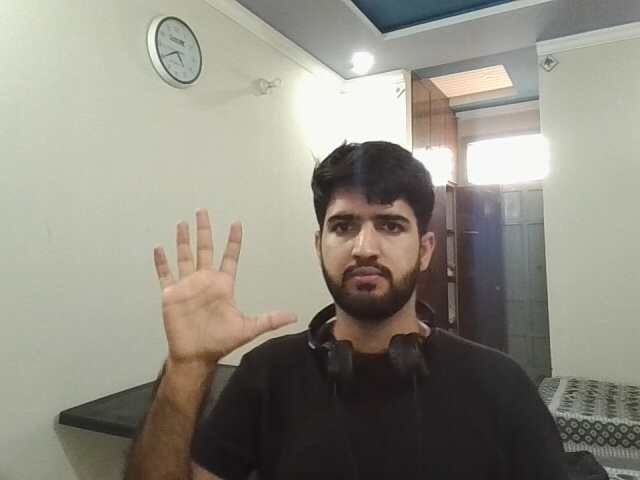Hello: (140, 203, 302, 365)
